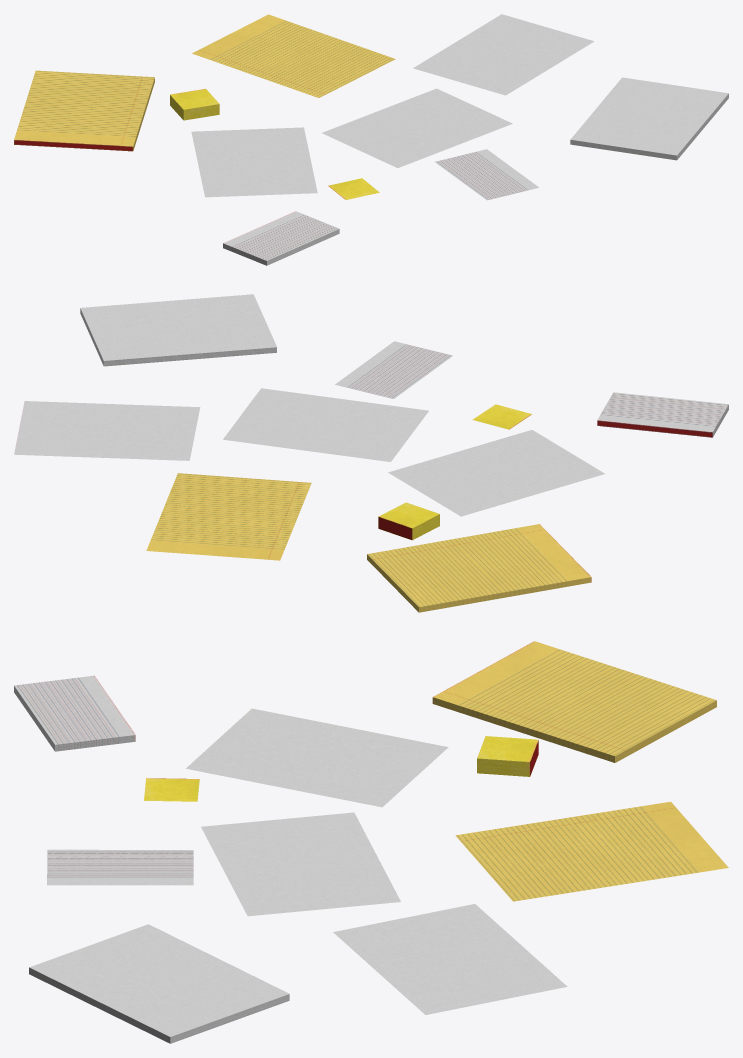
File: OfficeNotepads.obj
3 renders of one model, top to bottom at view 1: azimuth 30°, elevation 25°; view 2: azimuth 150°, elevation 25°; view 3: azimuth 270°, elevation 25°, orthographic. The views are drawn at different scales.
Visible parts, largest first — view 1: Plane_002, Plane, Plane_007, Plane_008, Plane_009, Plane_119, Plane_004, Plane_005, Cube_001, Cube_002; view 2: Plane_002, Plane, Plane_007, Plane_119, Plane_009, Plane_008, Plane_004, Plane_005, Cube_001, Cube_002; view 3: Plane_002, Plane, Plane_007, Plane_009, Plane_008, Plane_119, Plane_004, Plane_005, Cube_001, Cube_002.
Boxes of the visible parts, x1,y1,x2,y2 form: Plane_002: (14, 70, 154, 151); Plane: (192, 14, 395, 97); Plane_007: (570, 77, 728, 160); Plane_008: (322, 88, 512, 167); Plane_009: (191, 127, 317, 197); Plane_119: (413, 14, 594, 95); Plane_004: (223, 211, 339, 265); Plane_005: (435, 149, 538, 200); Cube_001: (170, 89, 219, 120); Cube_002: (328, 178, 379, 199); Plane_002: (367, 524, 591, 612); Plane: (146, 473, 311, 560); Plane_007: (80, 294, 276, 366); Plane_119: (14, 401, 200, 460); Plane_009: (388, 430, 604, 516); Plane_008: (223, 388, 428, 461); Plane_004: (597, 392, 728, 437); Plane_005: (335, 341, 452, 398); Cube_001: (378, 502, 439, 540); Cube_002: (472, 404, 531, 429); Plane_002: (432, 641, 716, 762); Plane: (455, 801, 728, 901); Plane_007: (29, 924, 289, 1043); Plane_009: (186, 708, 448, 807); Plane_008: (201, 812, 400, 916); Plane_119: (333, 904, 567, 1014); Plane_004: (14, 675, 135, 751); Plane_005: (47, 849, 193, 885); Cube_001: (477, 736, 538, 776); Cube_002: (144, 778, 199, 801).
Size of the model in its own units: 1.25 by 0.022 by 0.955.
Materials: 1 (1 with a texture image).
